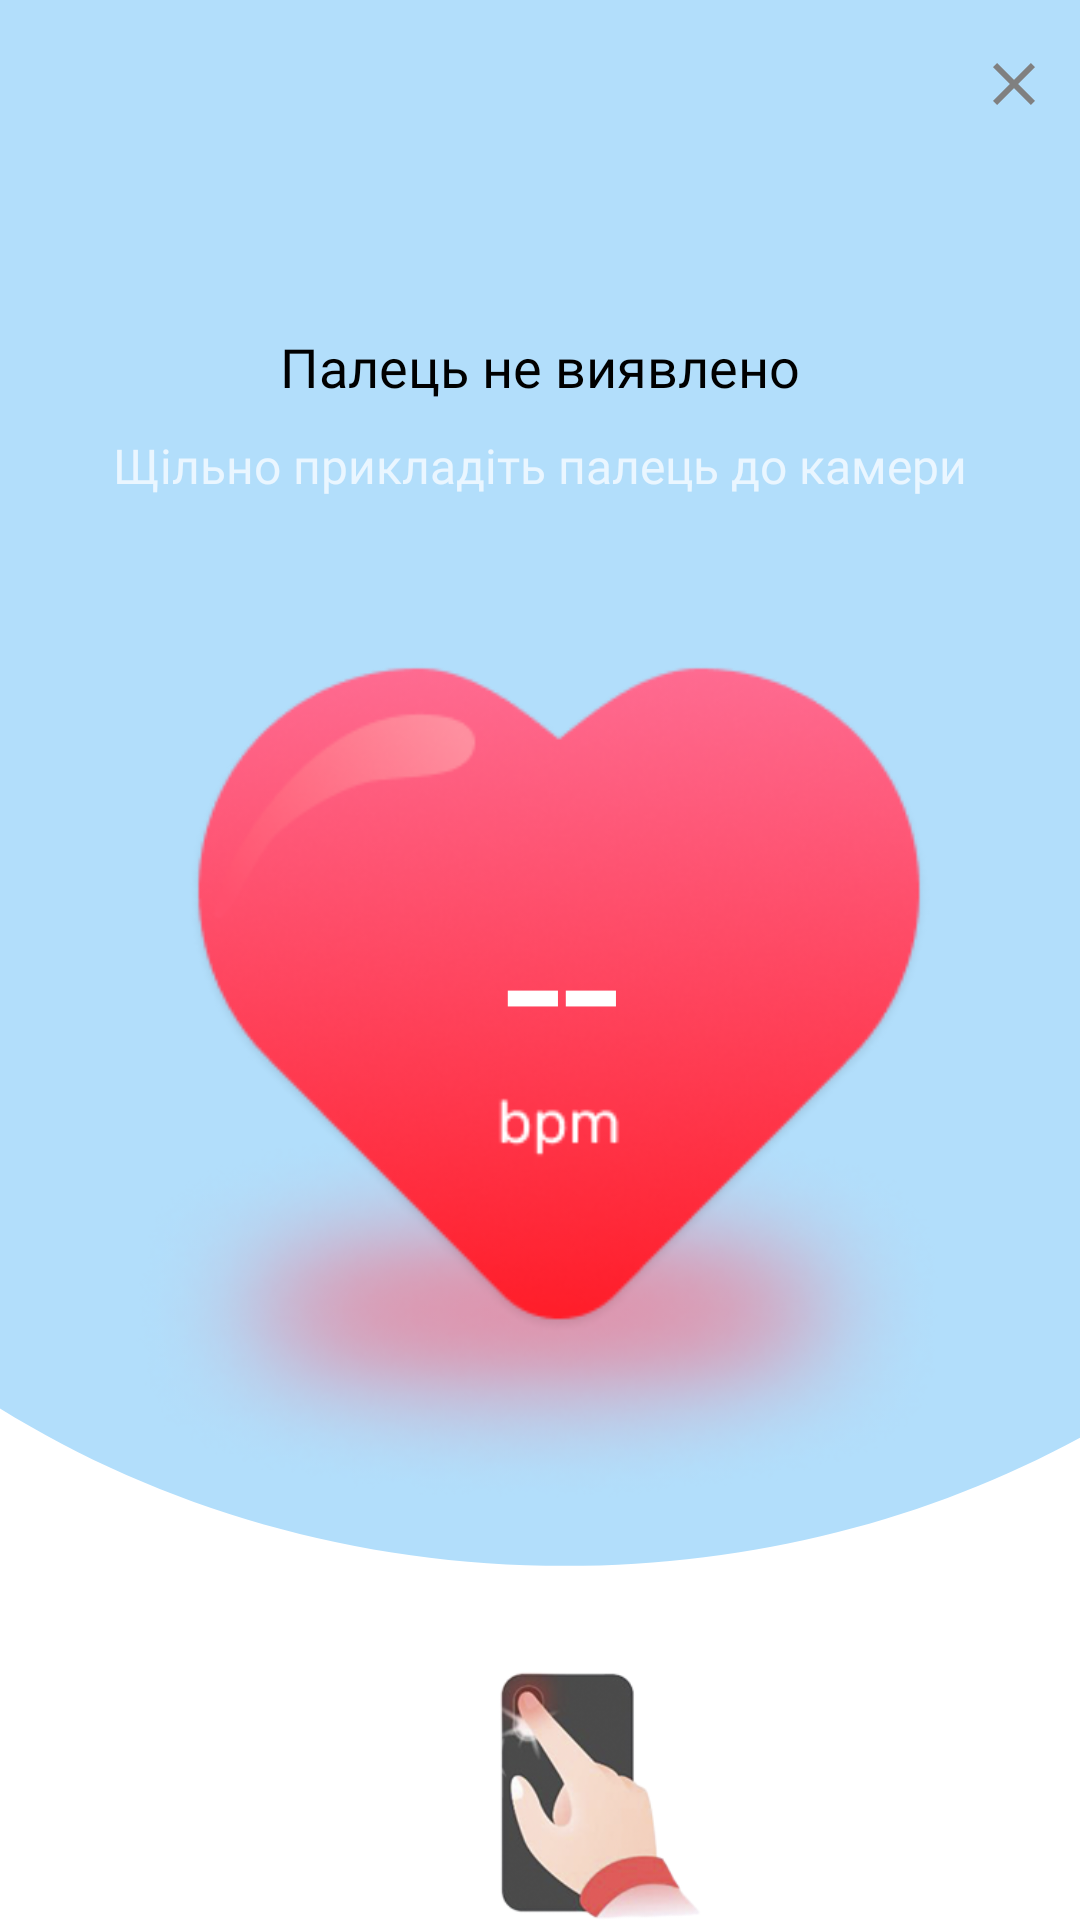

Icon bounding boxes for this 1080 × 1920 phone screenshot, format (x1=x1, y1=y1, x2=x2, y2=y2):
close: (x1=993, y1=63, x2=1035, y2=105)
hands phone: (x1=501, y1=1673, x2=694, y2=1918)
